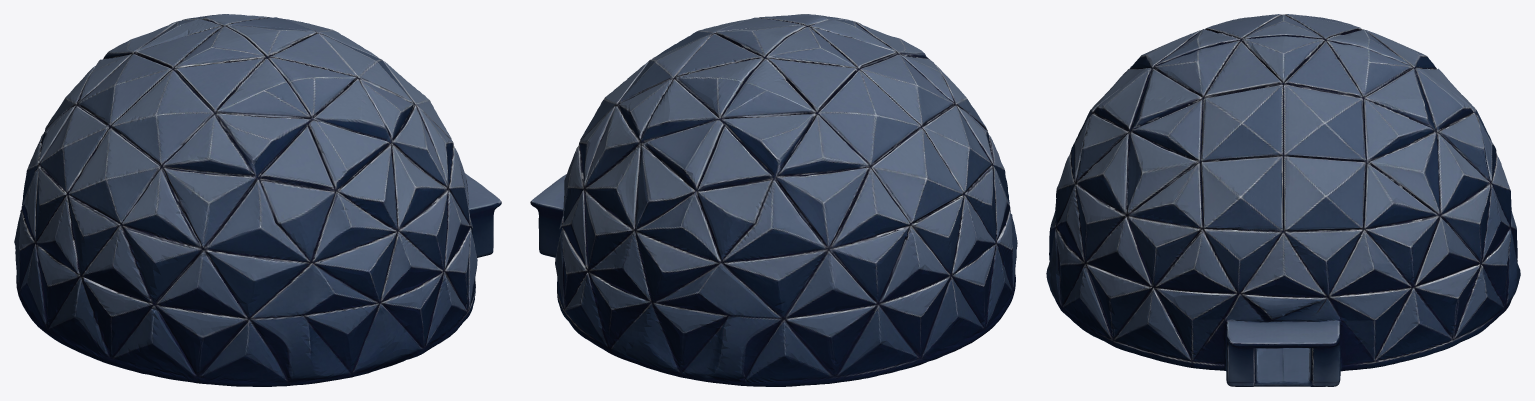
File: geodome.glb
3 renders of one model, left to right at view 1: azimuth 30°, elevation 25°; view 2: azimuth 150°, elevation 25°; view 3: azimuth 270°, elevation 25°, orthographic.
Parts seen in each view (by area): view 1: tripo_node_78d1fb47-cc13-4e24-baa1-25d4e23d1e30; view 2: tripo_node_78d1fb47-cc13-4e24-baa1-25d4e23d1e30; view 3: tripo_node_78d1fb47-cc13-4e24-baa1-25d4e23d1e30.
Boxes of the visible parts, <box> form: tripo_node_78d1fb47-cc13-4e24-baa1-25d4e23d1e30: <box>14,14,501,386</box>; tripo_node_78d1fb47-cc13-4e24-baa1-25d4e23d1e30: <box>530,14,1017,386</box>; tripo_node_78d1fb47-cc13-4e24-baa1-25d4e23d1e30: <box>1046,14,1520,386</box>.
Bounding box in the file's own units: 0.9981 × 0.5589 × 0.9693.
1 material, 1 textured.
